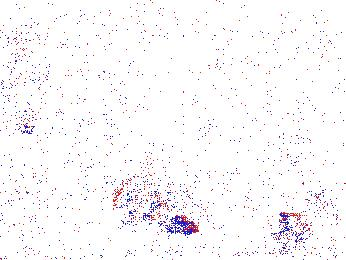flame jellyfish: (113, 172, 199, 236), (1, 49, 54, 135), (269, 188, 346, 247)
